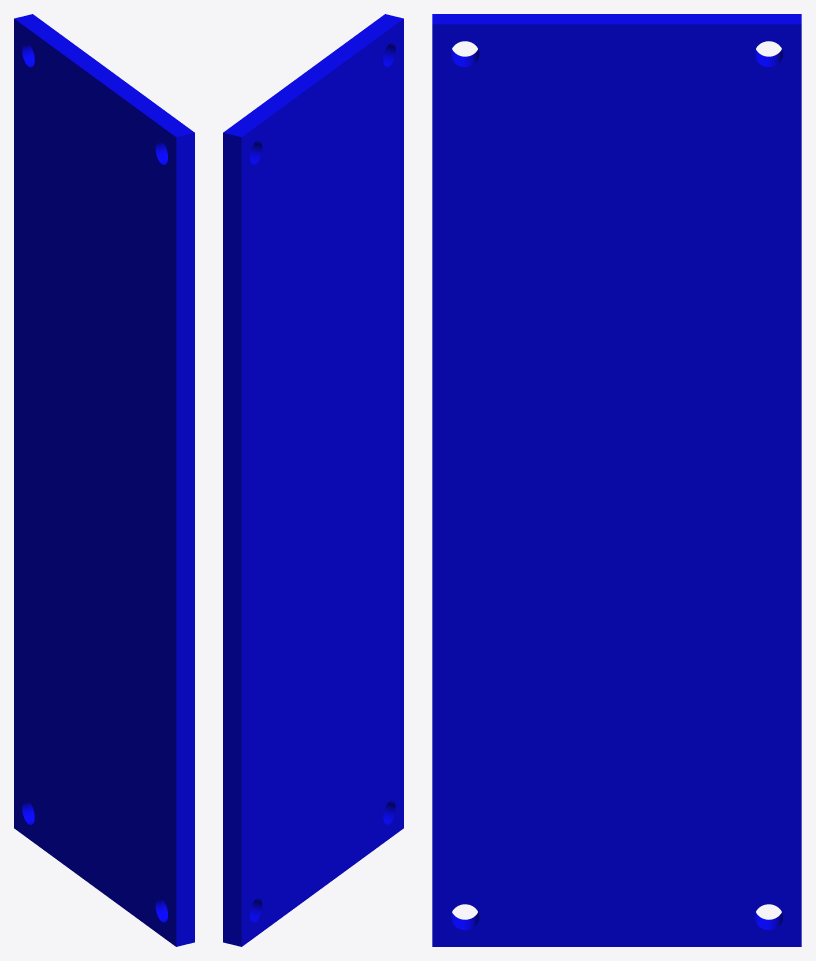
File: cote_TT_WAKANDA_int_1.dae
The picture shows the model from 3 angles, left to right: view 1: azimuth 30°, elevation 25°; view 2: azimuth 150°, elevation 25°; view 3: azimuth 270°, elevation 25°; orthographic projection. The views are drawn at different scales.
Visible parts, largest first — view 1: node0; view 2: node0; view 3: node0.
Boxes of the visible parts, left/top/right/bottom form: node0: left=14, top=14, right=194, bottom=946; node0: left=223, top=14, right=403, bottom=946; node0: left=432, top=14, right=801, bottom=946.
Bounding box in the file's own units: 0.003 × 0.124 × 0.045.
